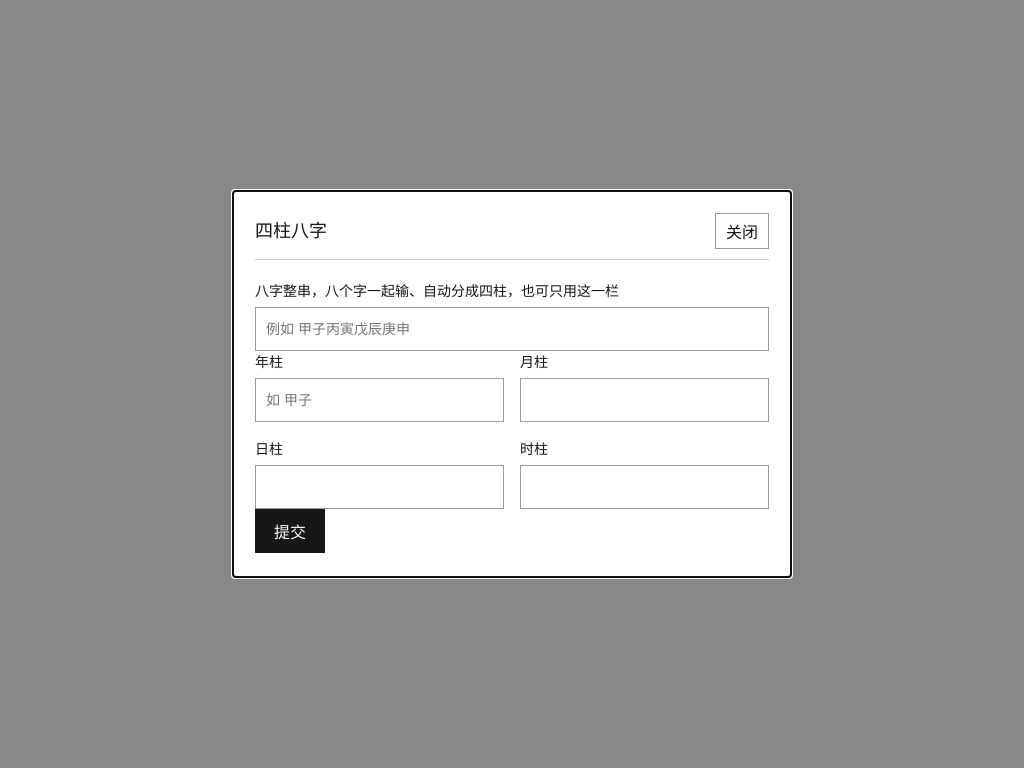
it: BirthInputModal › rejects pillars that are not exactly one stem and one branch
Type "甲" into the field labelled "年柱" at {"x": 380, "y": 400}, box [255, 378, 504, 422]
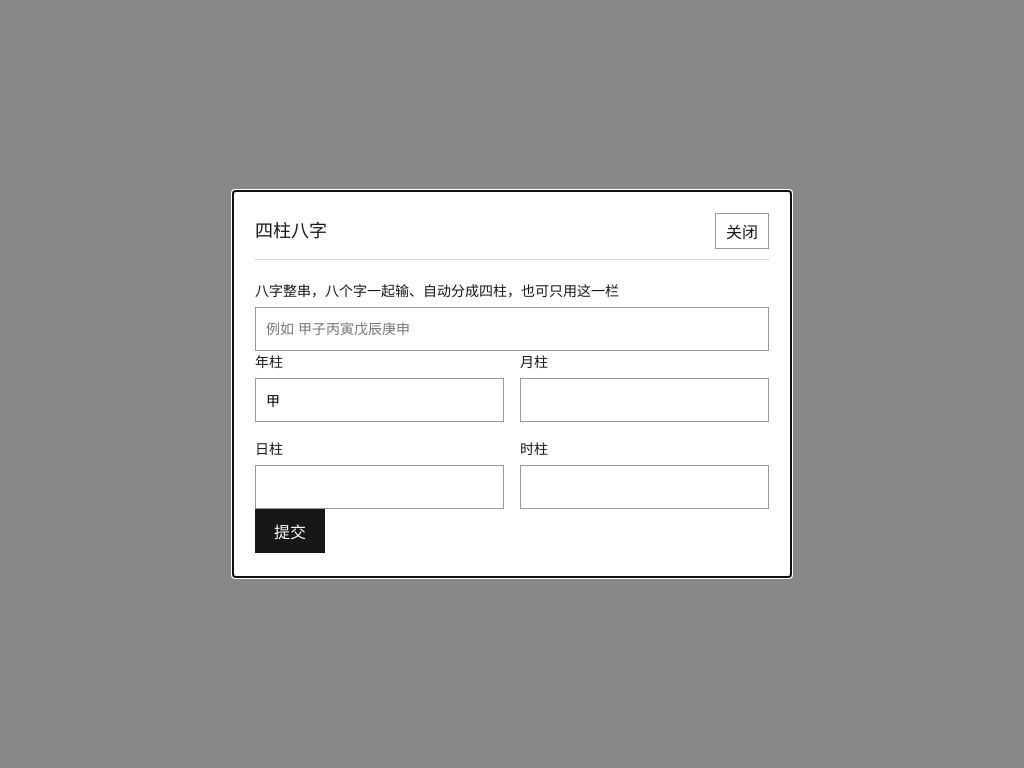
Type "丙寅" into the field labelled "月柱" at {"x": 644, "y": 400}, box [520, 378, 769, 422]
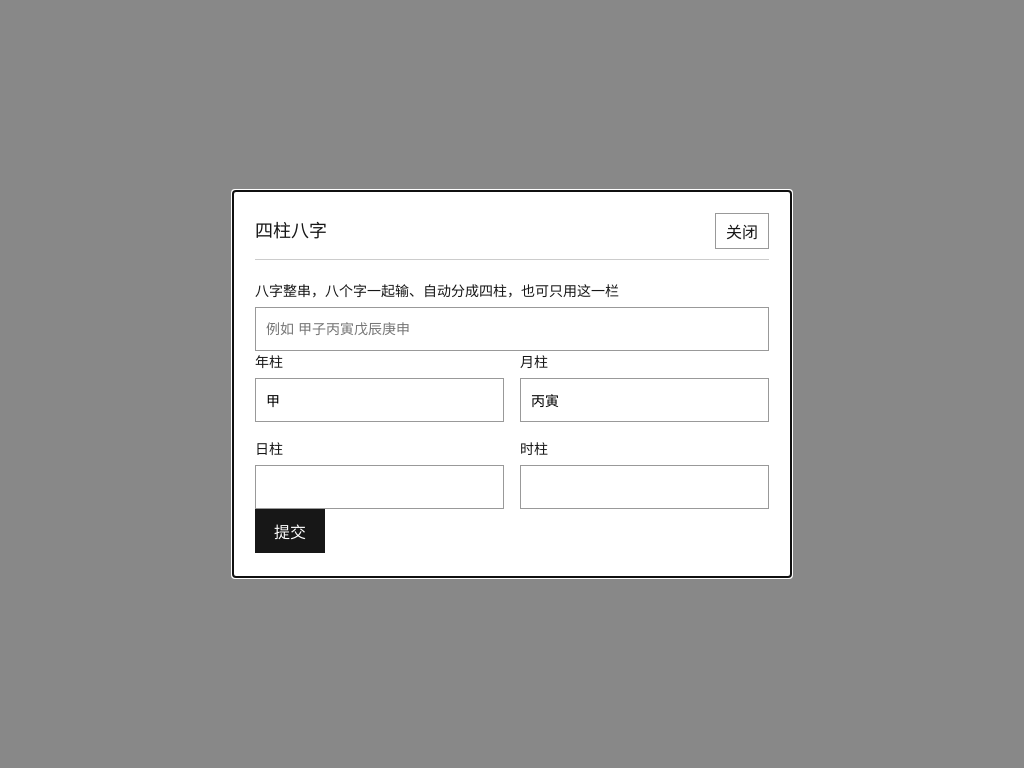
Type "庚午" into the field labelled "日柱" at {"x": 380, "y": 487}, box [255, 465, 504, 509]
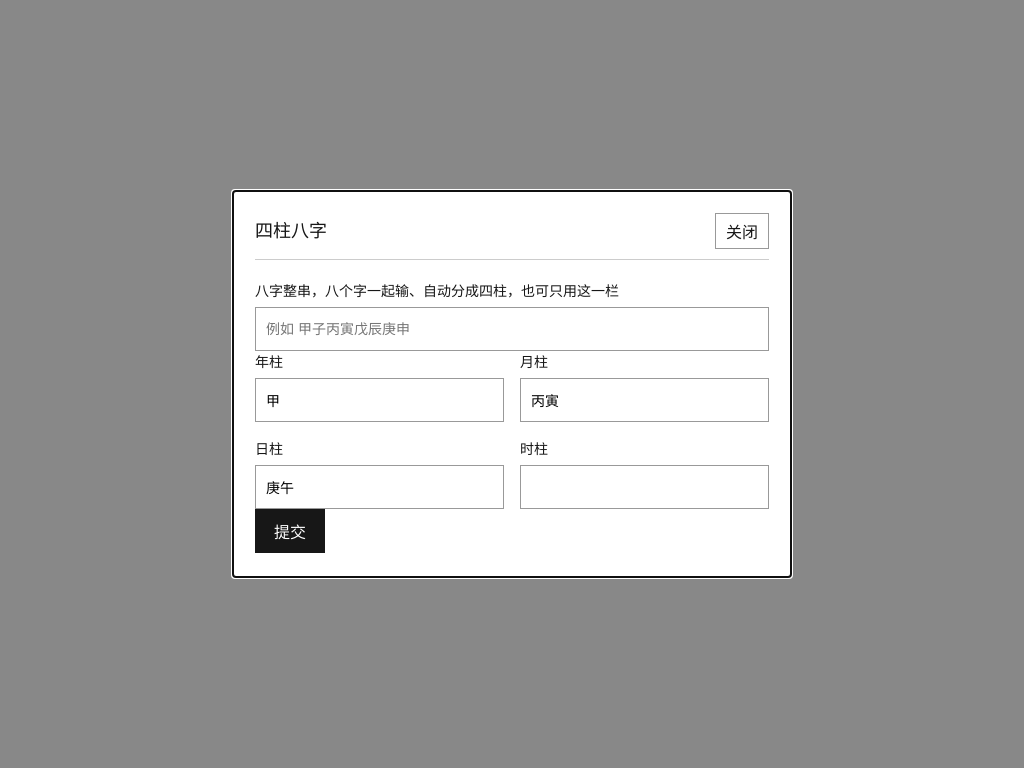
Type "壬午" into the field labelled "时柱" at {"x": 644, "y": 487}, box [520, 465, 769, 509]
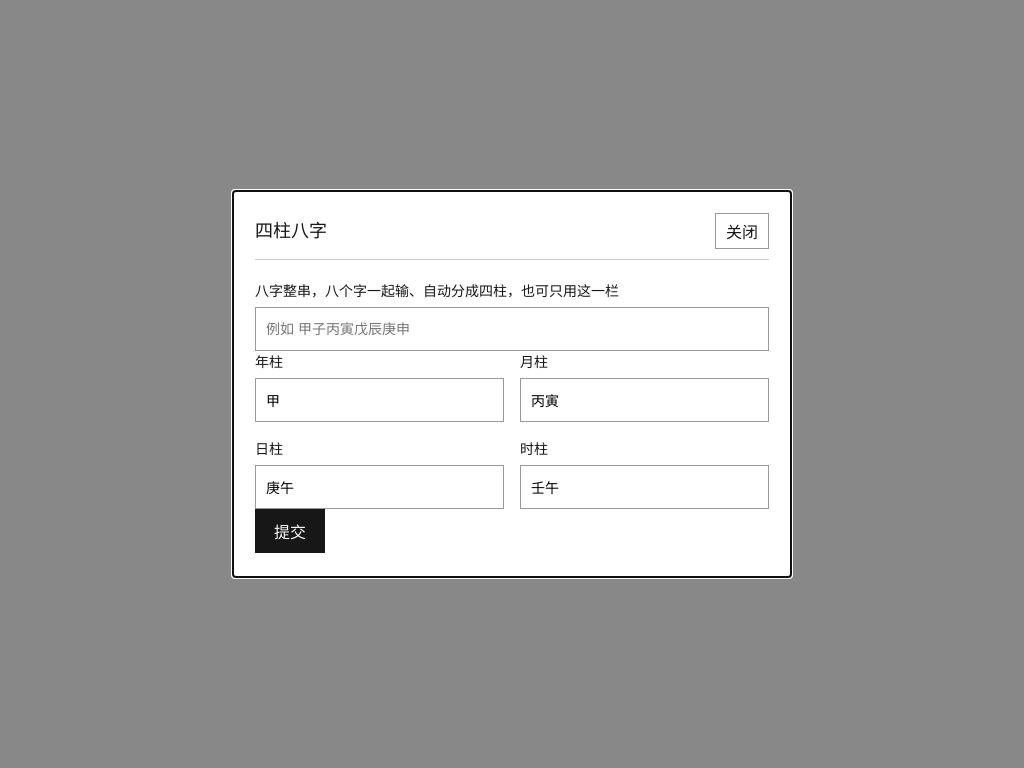
Click the button "提交" at {"x": 290, "y": 531}, box [255, 509, 325, 553]
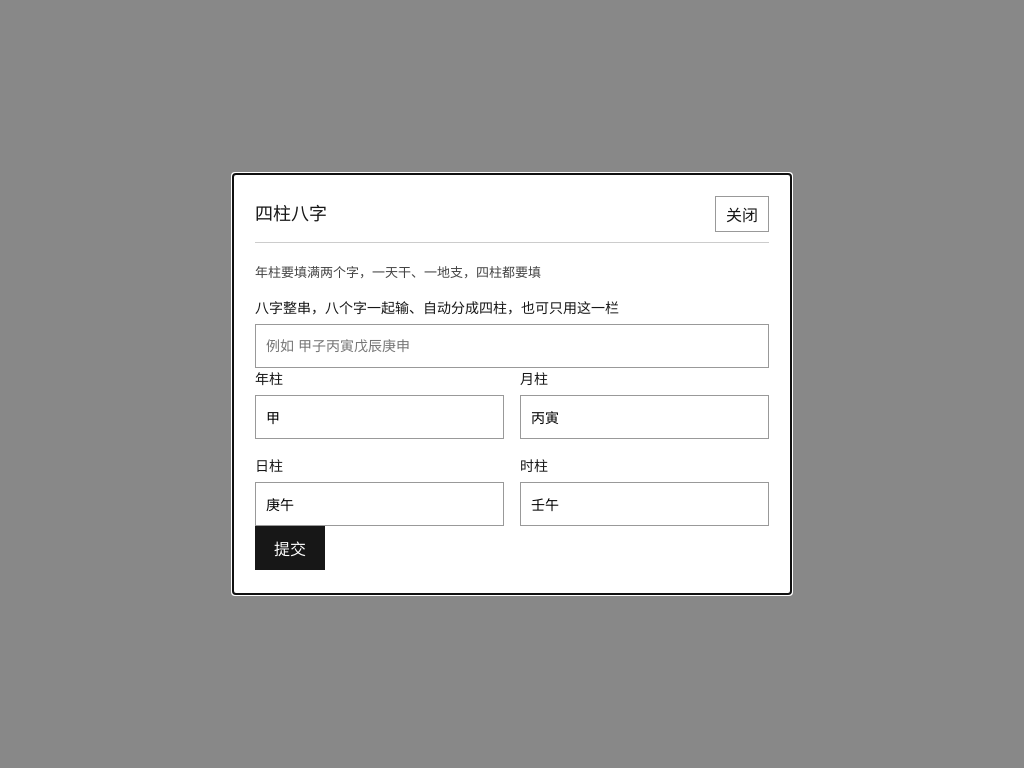
Result: the message shows "四柱" at [255, 265, 541, 280]
